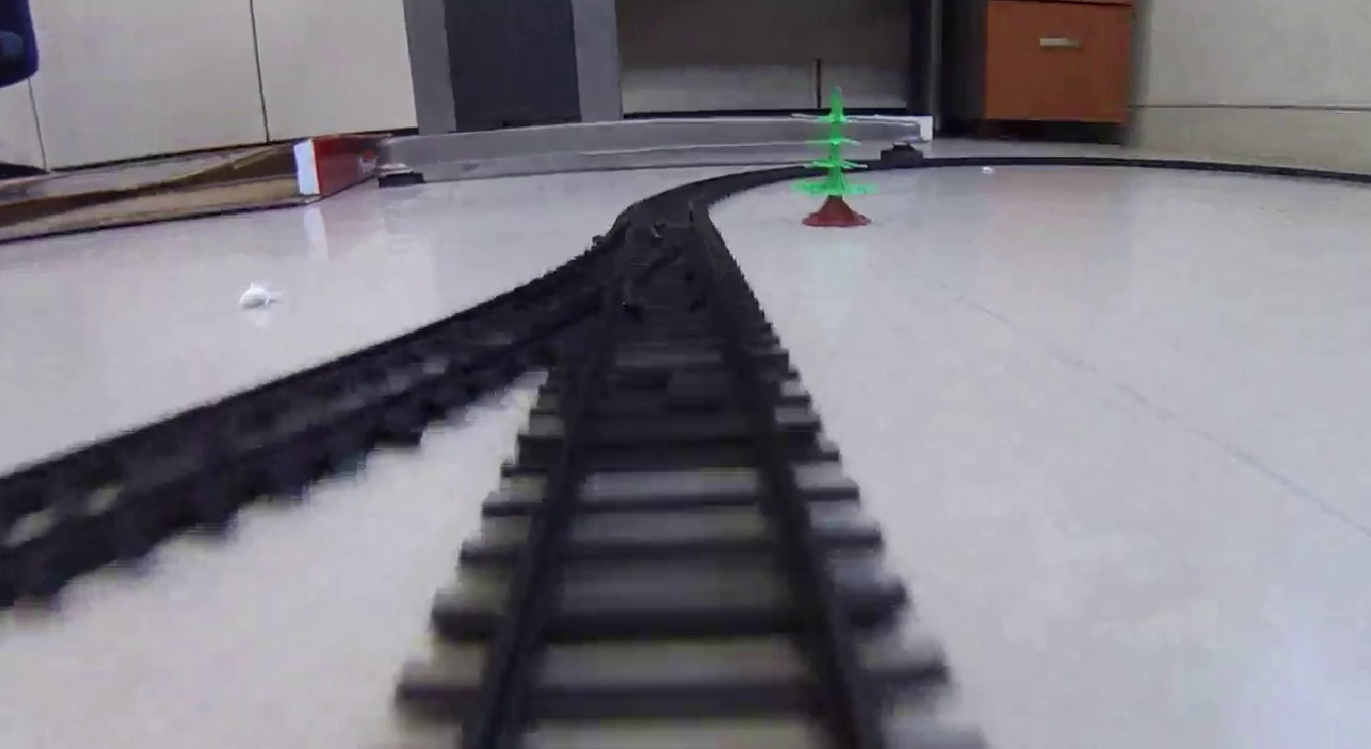tree: (793, 88, 880, 226)
